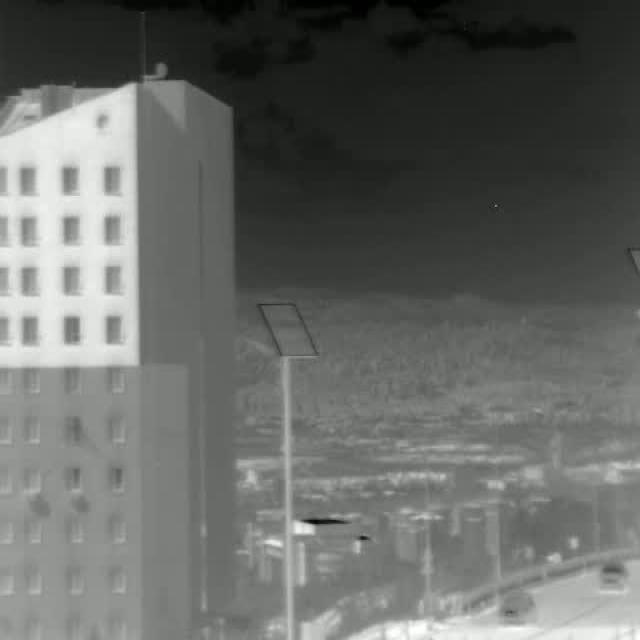Car: (500, 590, 538, 627), (600, 562, 628, 594)
